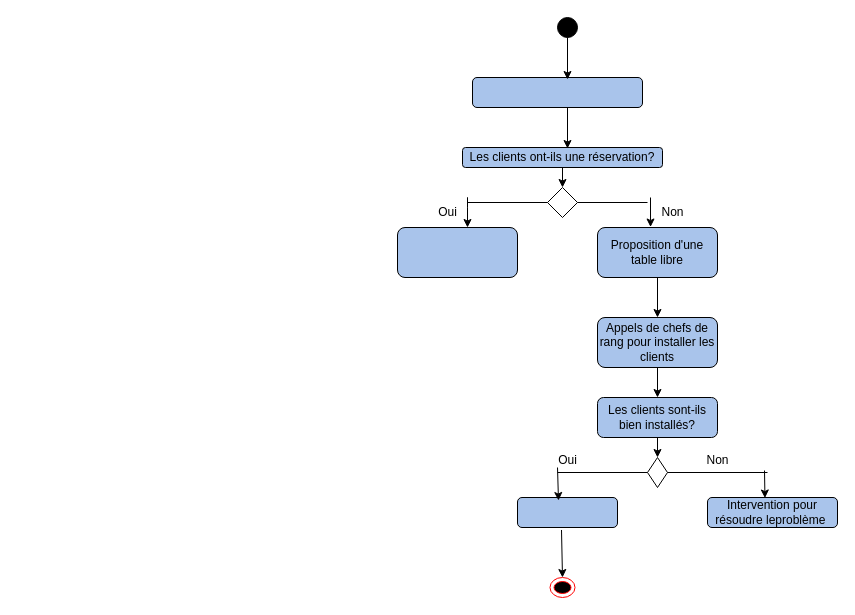
The diagram is 855 pixels wide and 615 high, and some of its shapes have lost their labels. Each missing label, with the box of its shape:
Accueil des clients: (472, 76, 642, 108)
Recherche et cconfirmation de la table: (396, 226, 518, 278)
Surveillance générale: (516, 496, 618, 528)
